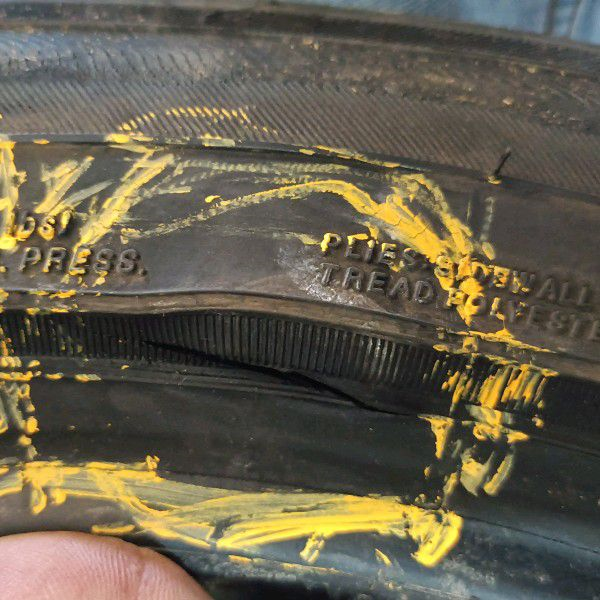CBU: (141, 234, 435, 415)
cut: (143, 339, 407, 416)
